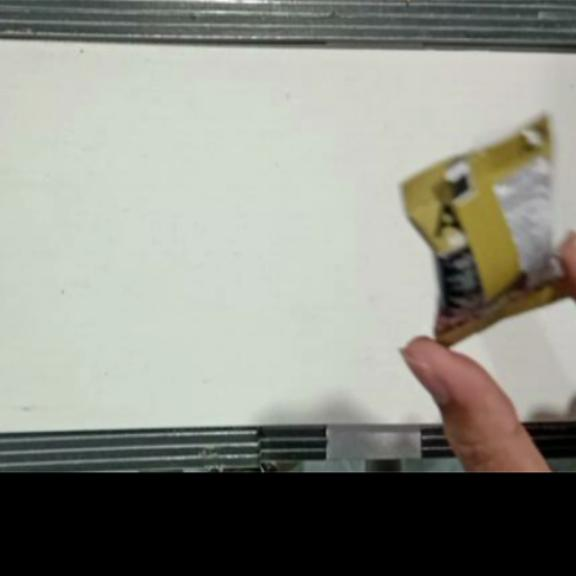Plastik: (401, 114, 573, 344)
